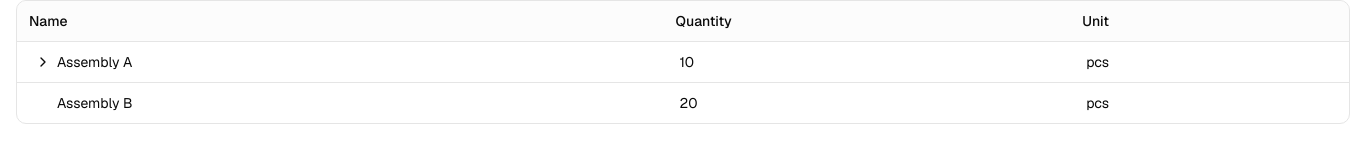
it: EditableTreeTable › Escape cancels edit
Click the button "10". click: (687, 62)
box: [680, 52, 694, 70]
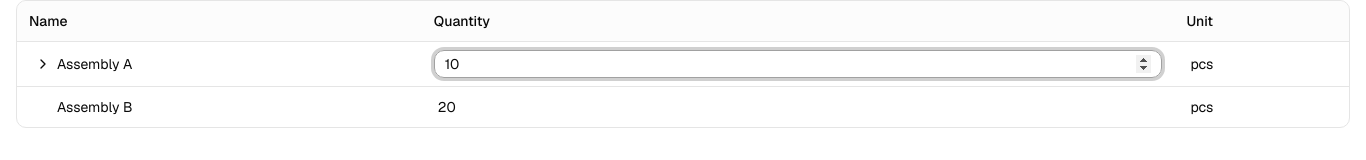
Replace the text in the number field showing "10" with "99". click: (798, 64)
box: [434, 50, 1162, 78]
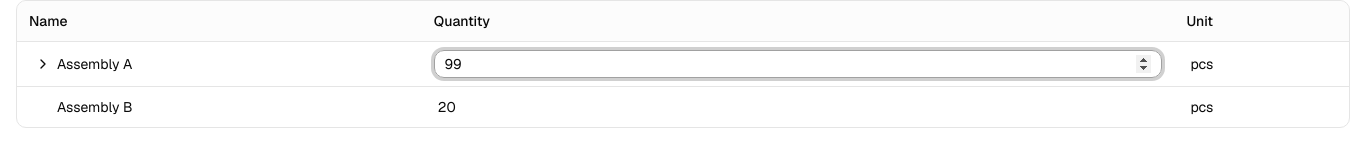
Press Escape in the number field showing "10", box [434, 50, 1162, 78]
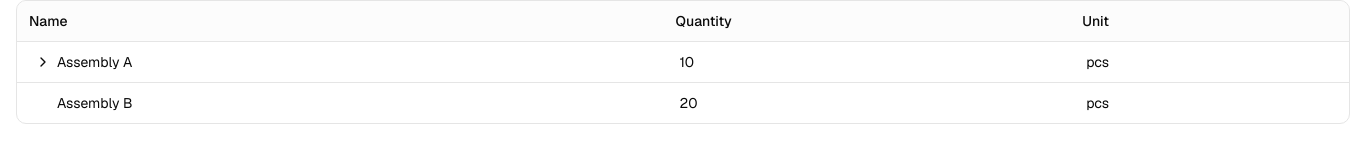
Check: the field showing "99" is not shown
Check: the button "10" is shown, box [680, 52, 694, 70]
